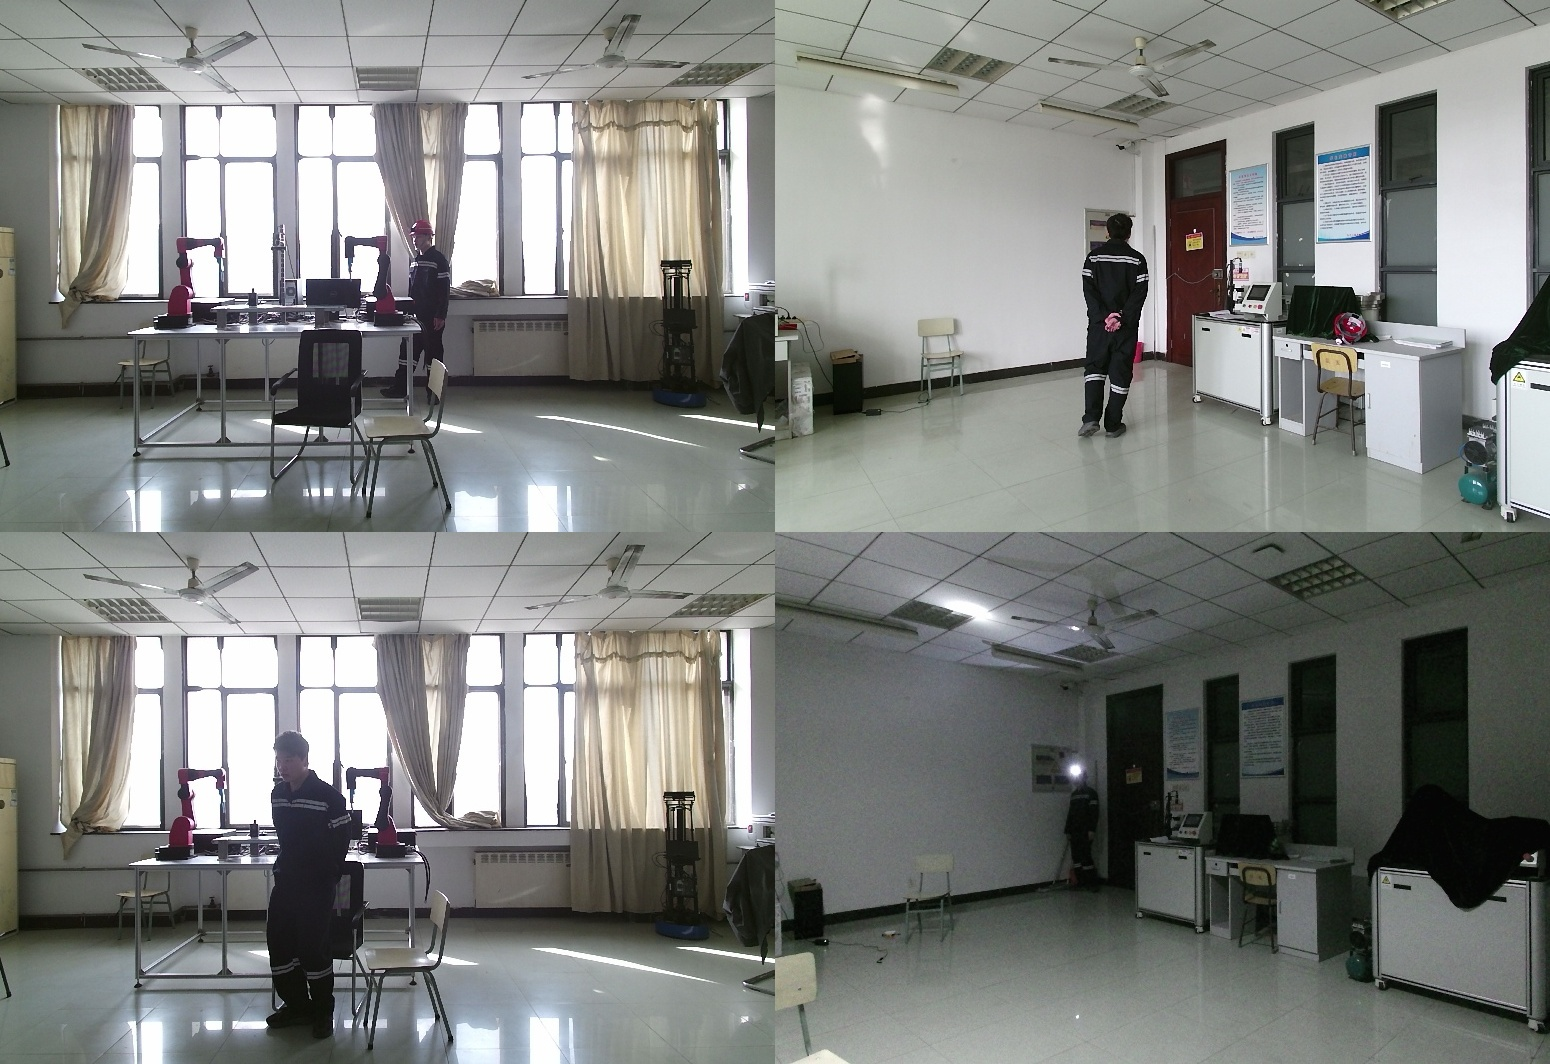person: (264, 731, 364, 1033), (1074, 213, 1157, 440), (381, 222, 453, 407), (1064, 766, 1099, 893)
